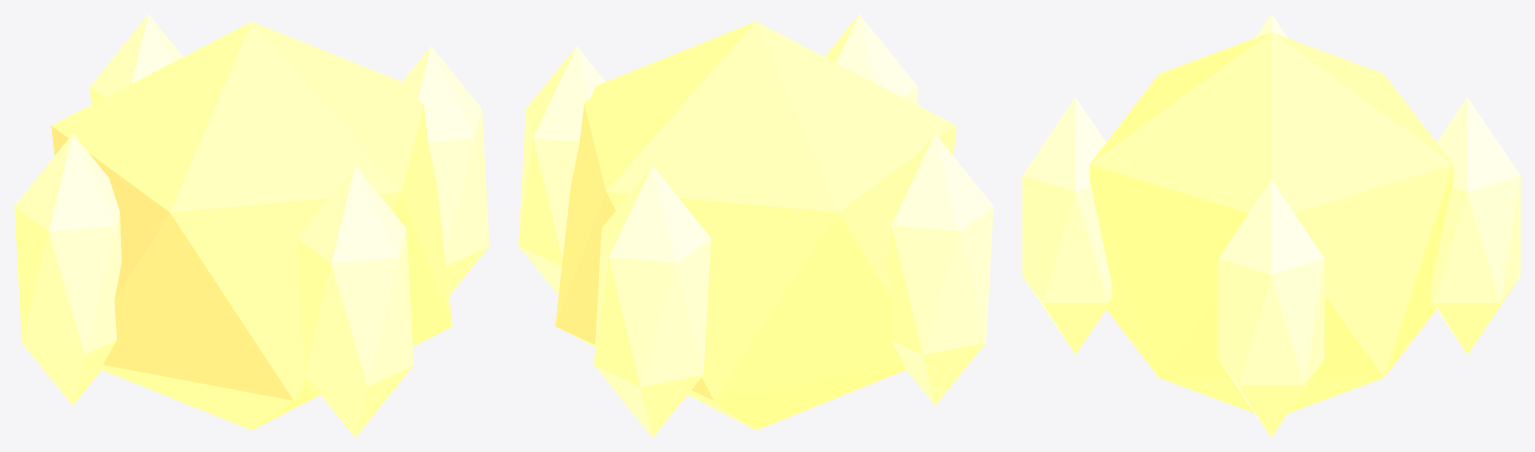
Rendered from fireball.glb.
3 views of the same model, side by side, from view 1: azimuth 30°, elevation 25°; view 2: azimuth 150°, elevation 25°; view 3: azimuth 270°, elevation 25° (orthographic). The views are drawn at different scales.
Visible parts, largest first — view 1: FireballShell; view 2: FireballShell; view 3: FireballShell.
Boxes of the visible parts, x1,y1,x2,y2 form: FireballShell: (14, 14, 489, 437); FireballShell: (518, 14, 993, 437); FireballShell: (1022, 14, 1520, 437).
Bounding box in the file's own units: 0.5652 × 0.48 × 0.5591.
